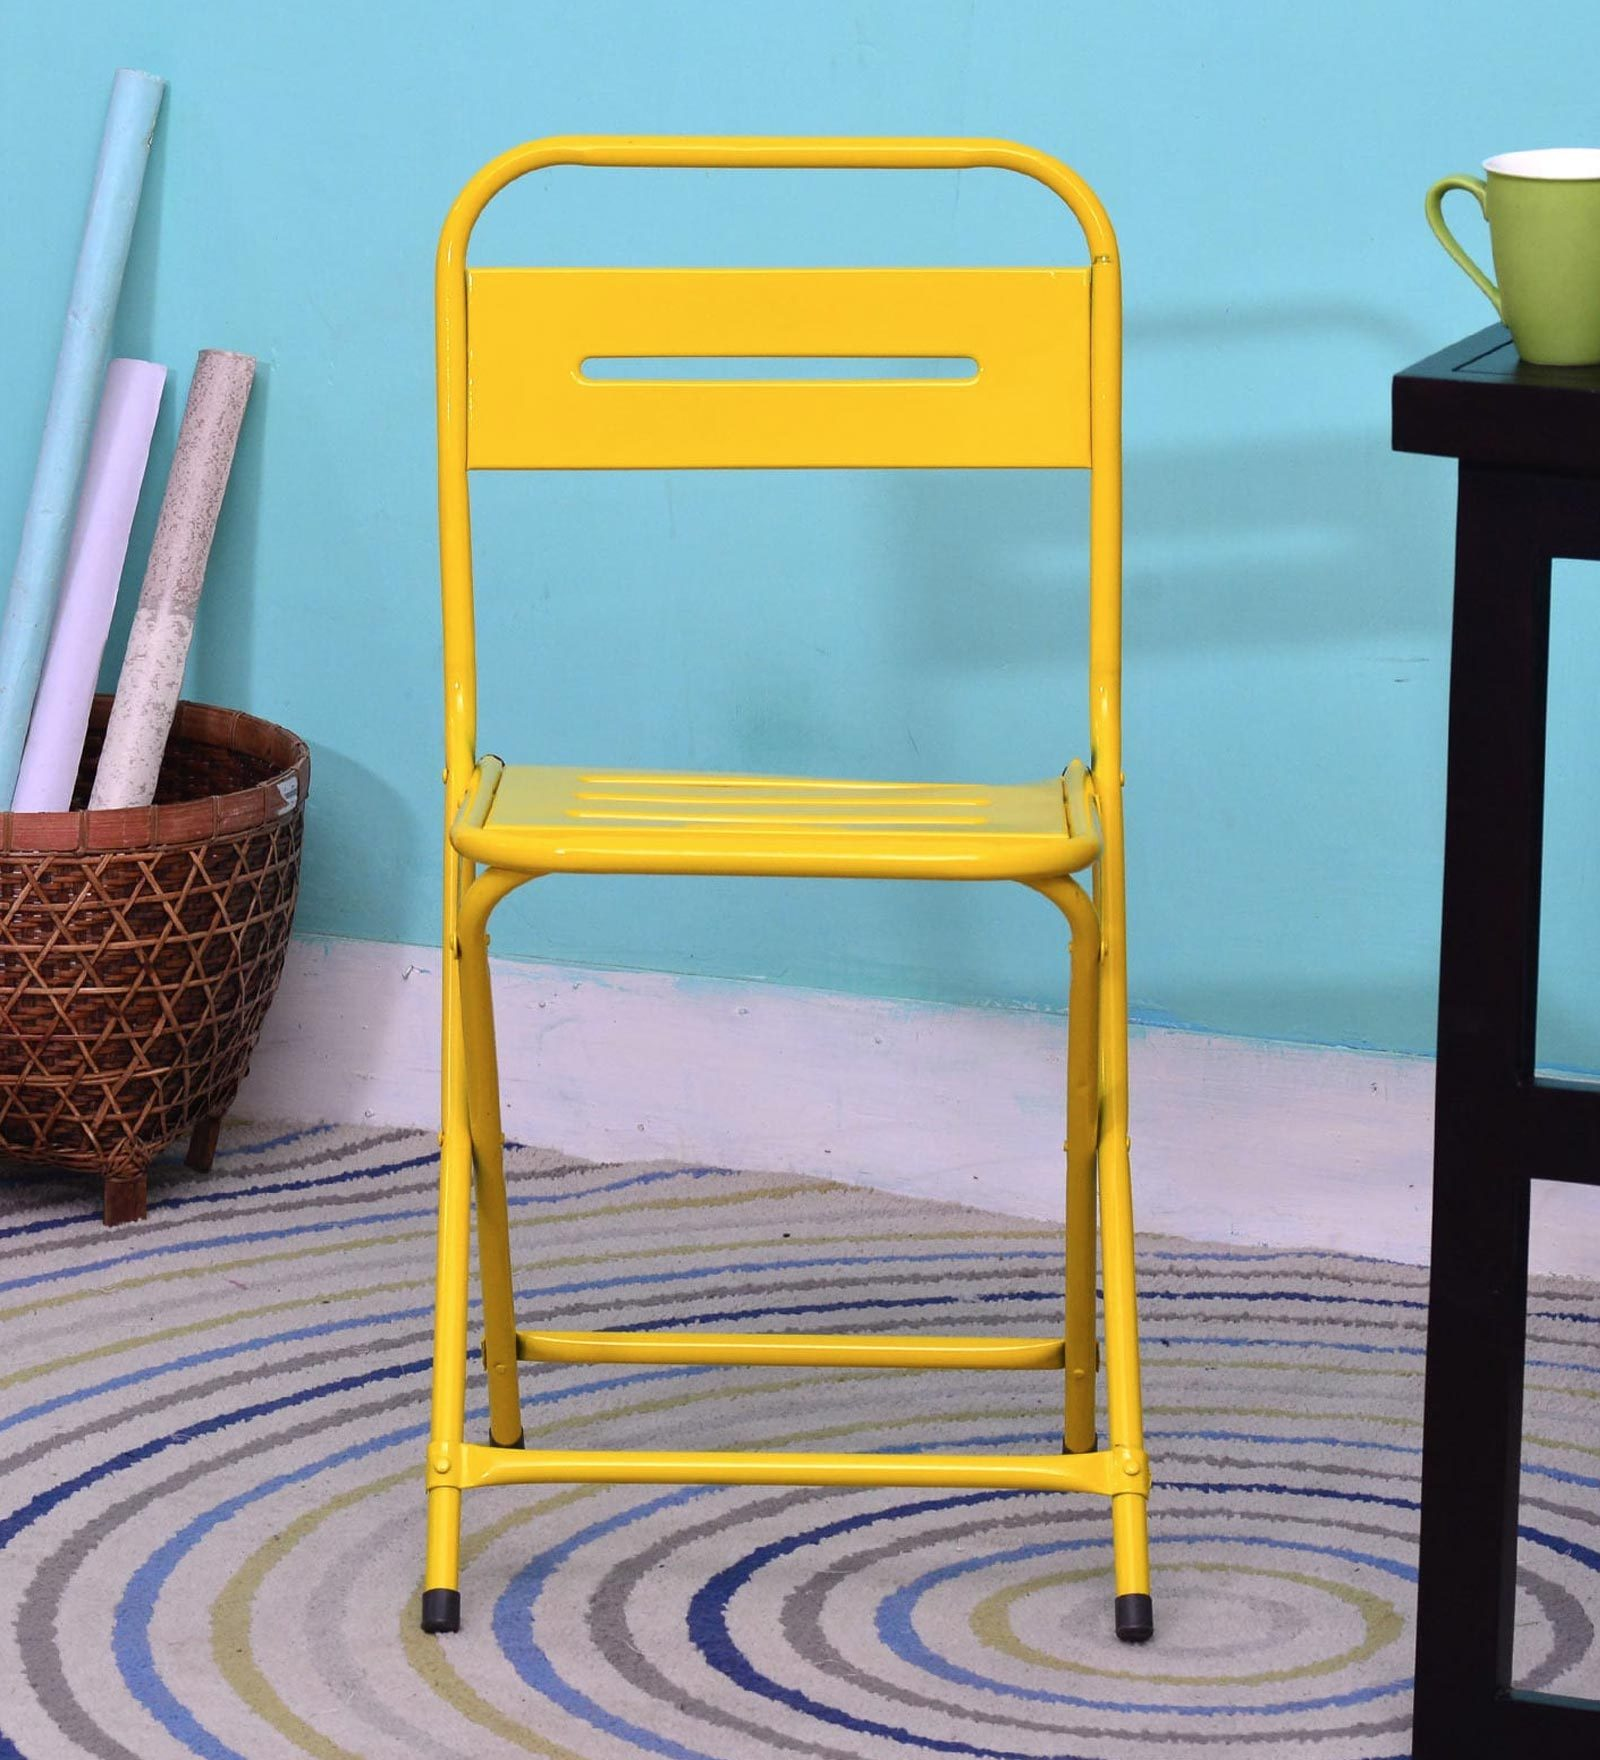Marandoo Grunge Outdoor Folding Chair in Yellow Colour by Bohemiana: (426, 126, 1180, 1648)
